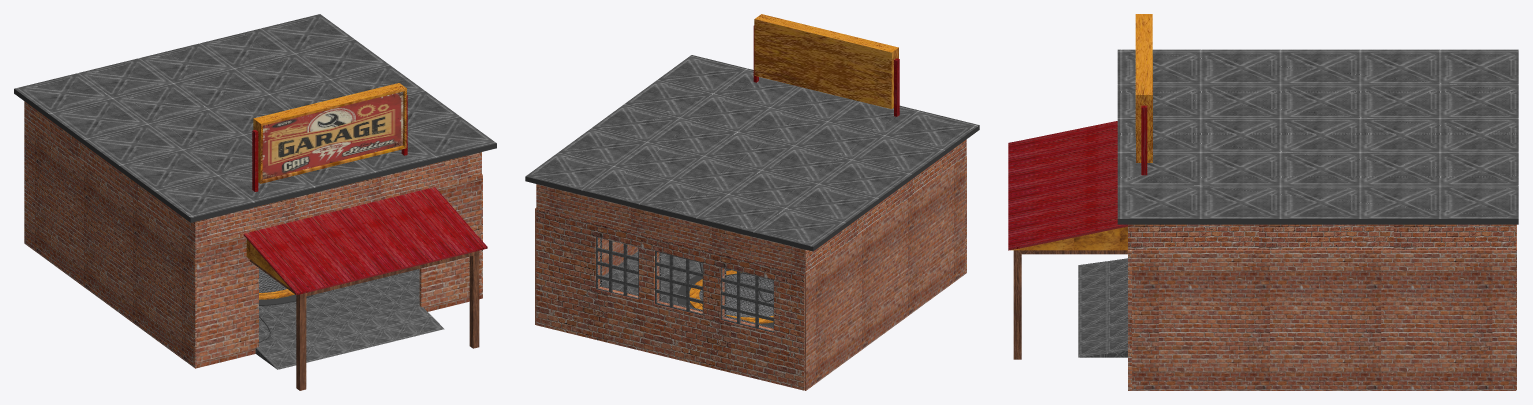
The model's file is Garage.fbx.
3 renders of one model, left to right at view 1: azimuth 30°, elevation 25°; view 2: azimuth 150°, elevation 25°; view 3: azimuth 270°, elevation 25°, orthographic. The views are drawn at different scales.
Visible parts, largest first — view 1: Cube, Plane.007, Cube.017, Cube.018, Plane.005, Plane.008, Plane.006, Cube.015, Circle, Cube.019, Cube.016; view 2: Cube, Plane.002, Plane.007, Cube.018, Plane.003, Circle, Plane.005, Plane.006, Plane.004, Cube.019; view 3: Cube, Plane.006, Cube.017, Plane.008, Cube.018, Cube.015, Cube.016, Cube.019.
Part boxes in pixels (x1,y1,x2,y2): Cube: (14,14,496,244); Plane.007: (24,120,258,368); Cube.017: (243,187,487,294); Cube.018: (253,83,406,183); Plane.005: (259,269,419,342); Plane.008: (255,304,444,369); Plane.006: (419,174,482,311); Cube.015: (249,251,479,390); Circle: (259,268,315,305); Cube.019: (252,95,407,191); Cube.016: (246,239,290,288); Cube: (525,55,979,274); Plane.002: (536,209,804,390); Plane.007: (804,157,966,390); Cube.018: (754,14,898,108); Plane.003: (596,237,773,332); Circle: (677,269,773,326); Plane.005: (602,251,702,303); Plane.006: (535,208,638,324); Plane.004: (600,238,773,328); Cube.019: (753,25,899,116); Cube: (1117,49,1518,249); Plane.006: (1128,250,1516,390); Cube.017: (1008,121,1127,250); Plane.008: (1078,258,1127,357); Cube.018: (1135,14,1152,162); Cube.015: (1013,250,1127,359); Cube.016: (1011,226,1127,250); Cube.019: (1141,105,1147,175).
Size of the model in its own units: 1715 by 1210 by 2183.
16 materials, 14 textured.
